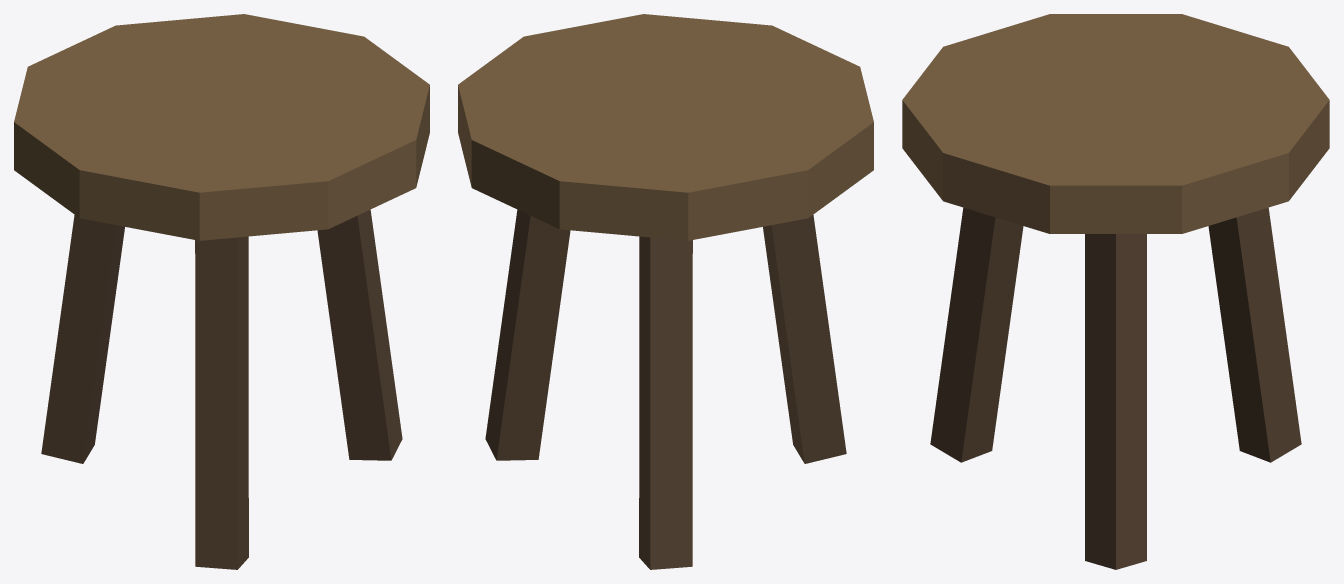
The model's file is P_Stool.glb.
The picture shows the model from 3 angles, left to right: view 1: azimuth 30°, elevation 25°; view 2: azimuth 150°, elevation 25°; view 3: azimuth 270°, elevation 25°; orthographic projection.
Visible parts, largest first — view 1: P_Stool; view 2: P_Stool; view 3: P_Stool.
Boxes of the visible parts, bbox=[...] form: P_Stool: bbox=[14, 14, 429, 569]; P_Stool: bbox=[458, 14, 873, 569]; P_Stool: bbox=[902, 14, 1329, 569].
Bounding box in the file's own units: 0.4636 × 0.4827 × 0.48.
